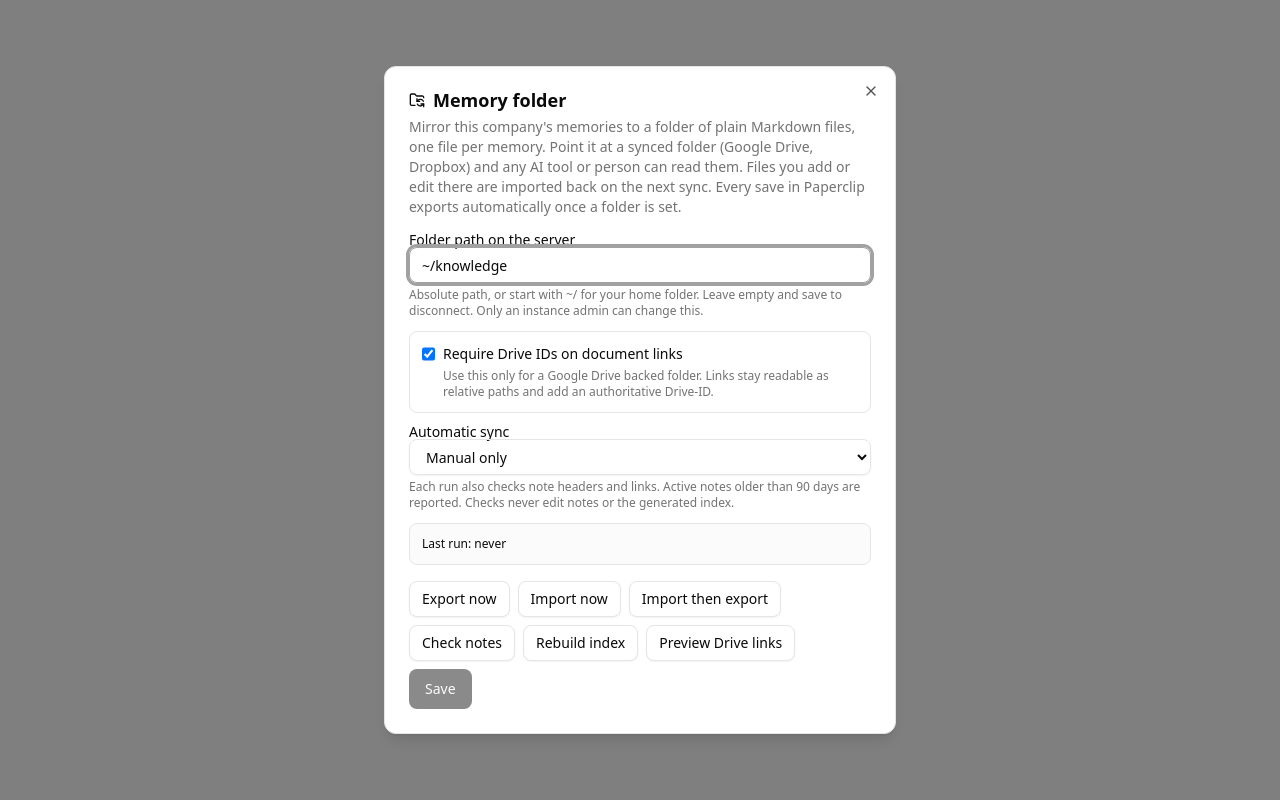
Test case: MemoryFolderDialog knowledge-base controls › allows apply when only a memory identity needs updating
Click the button "Preview Drive links" at x=721, y=643, box [646,625,795,661]
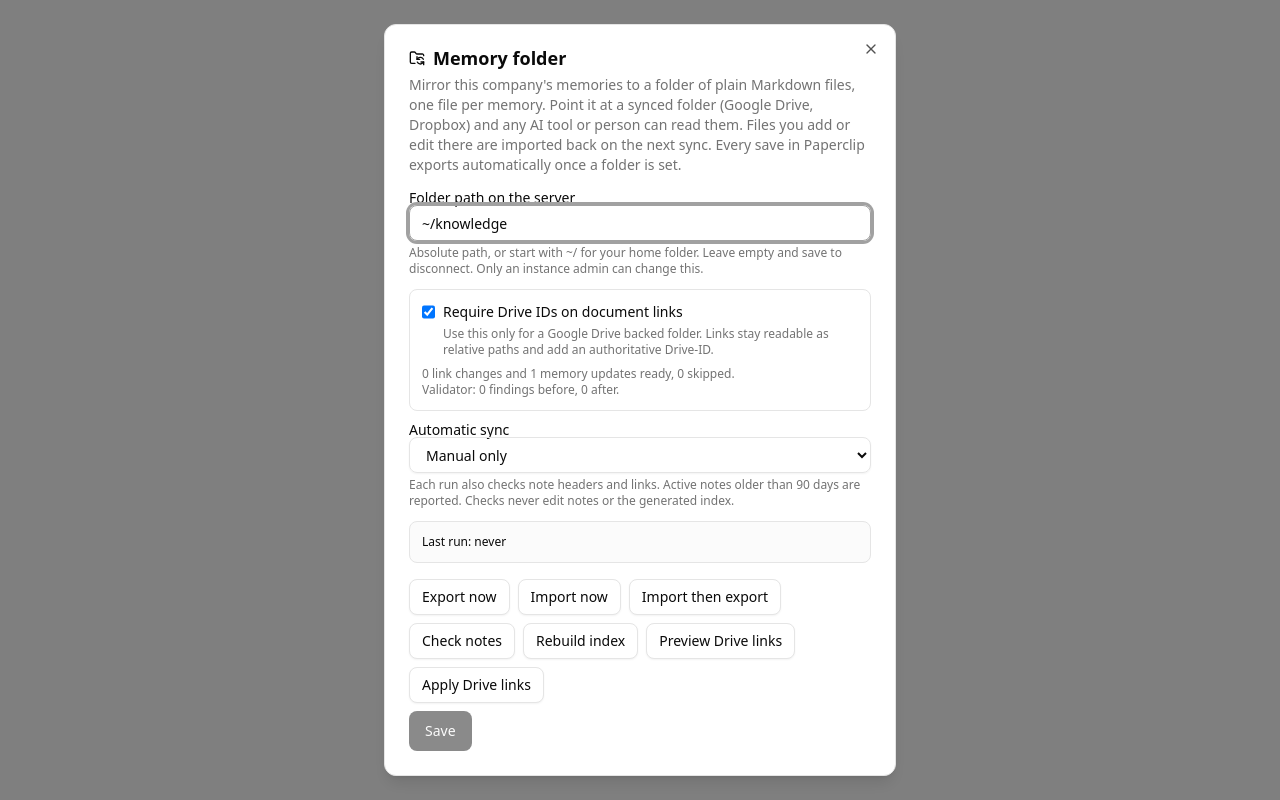
Expected: the button "Apply Drive links" is enabled, [409,667,544,703]
